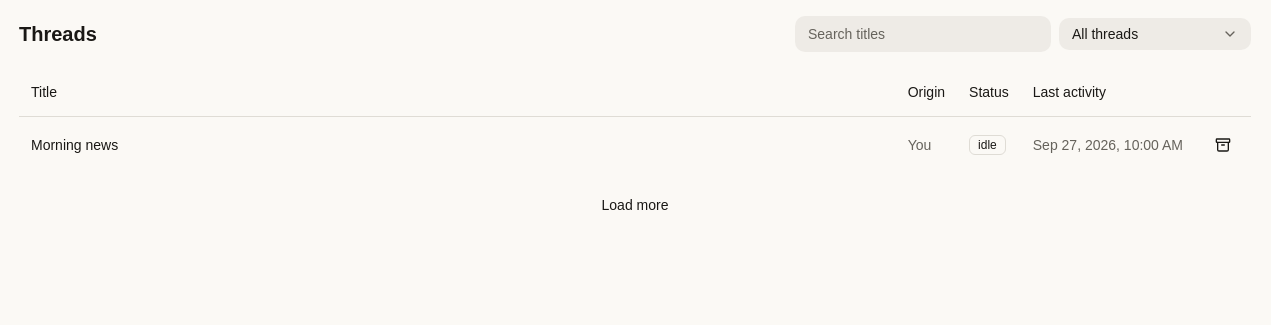
Scenario: the thread list page › drops a failed page's error once the next try loads it
The image size is (1271, 325).
Click the button "Load more" at point(635, 204), box [19,188,1251,220]
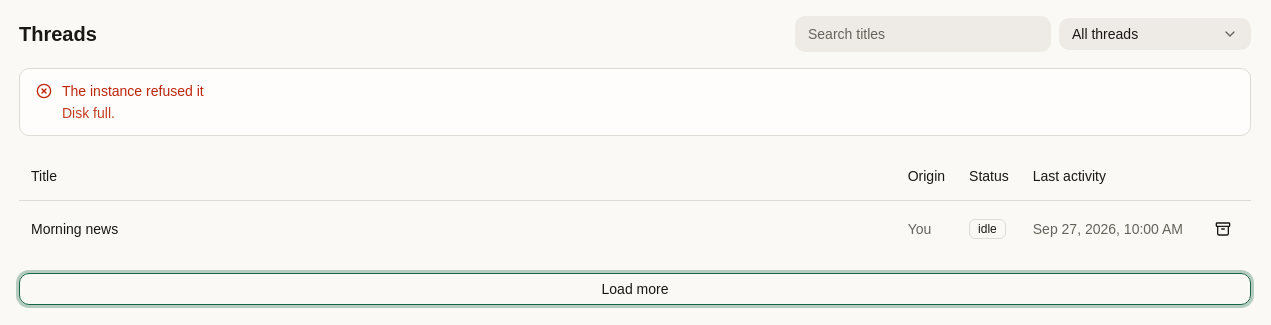
Result: the message shows "Disk full." at [62,105,115,121]
Click the button "Load more" at point(635, 288), box [19,272,1251,304]
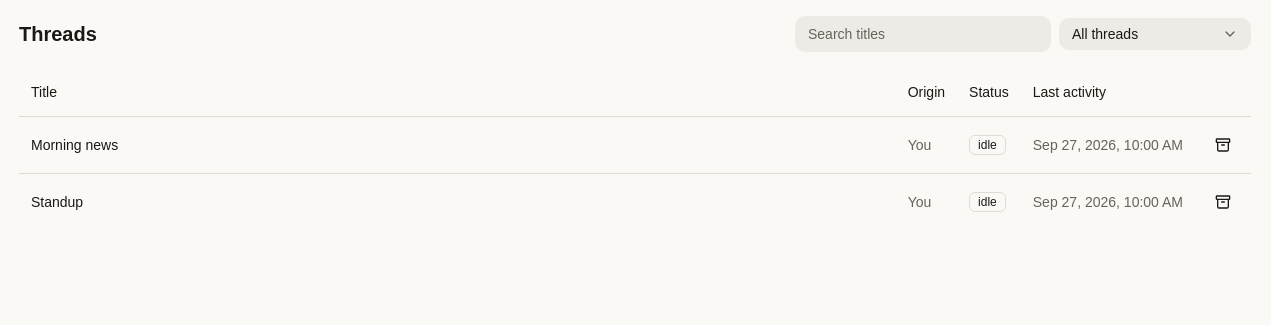
Result: the message "The instance refused it Disk full." is gone
